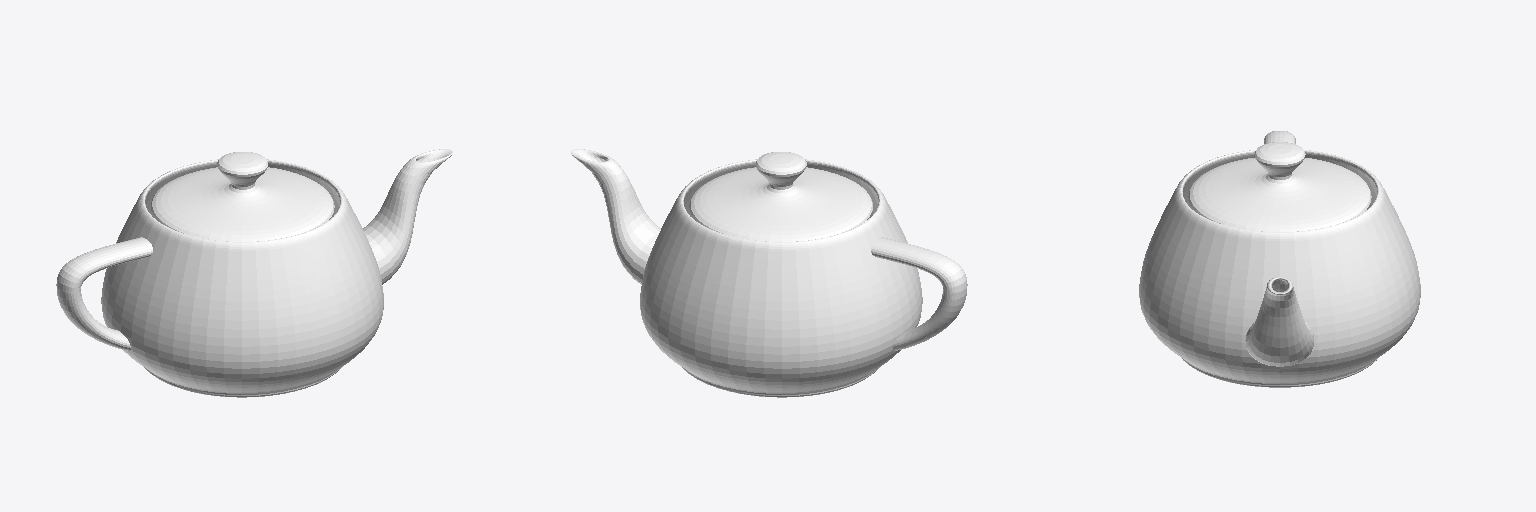
The model's file is teapot.obj.
The picture shows the model from 3 angles: view 1: azimuth 30°, elevation 25°; view 2: azimuth 150°, elevation 25°; view 3: azimuth 270°, elevation 25°; orthographic projection.
Parts seen in each view (by area): view 1: obj1; view 2: obj1; view 3: obj1.
Boxes of the visible parts, box(x1,y1,x2,y2) form: obj1: box(56, 149, 452, 397); obj1: box(571, 149, 967, 397); obj1: box(1139, 131, 1420, 387).
Size of the model in its own units: 6.43 by 3.15 by 4.